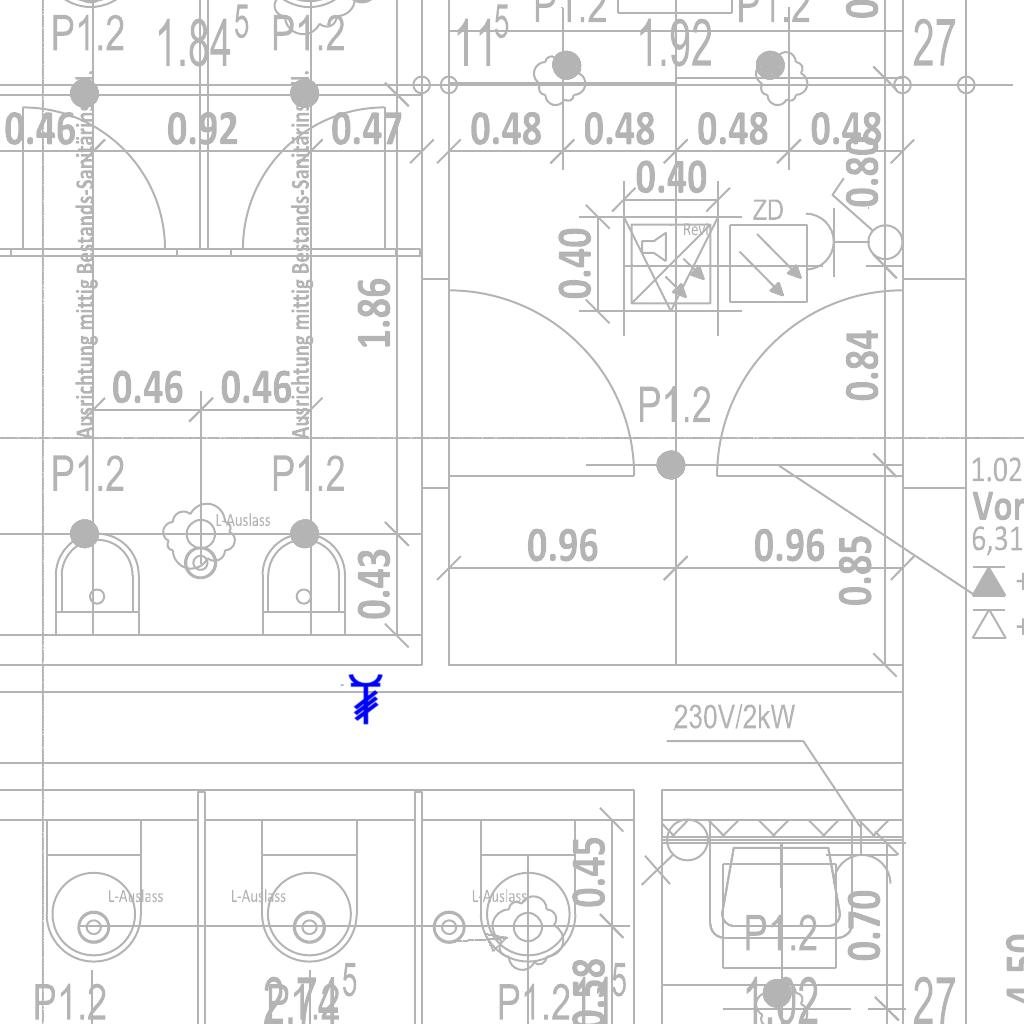CEE_Drehstrom_Steckdose_16_32_A: (339, 673, 384, 725)
